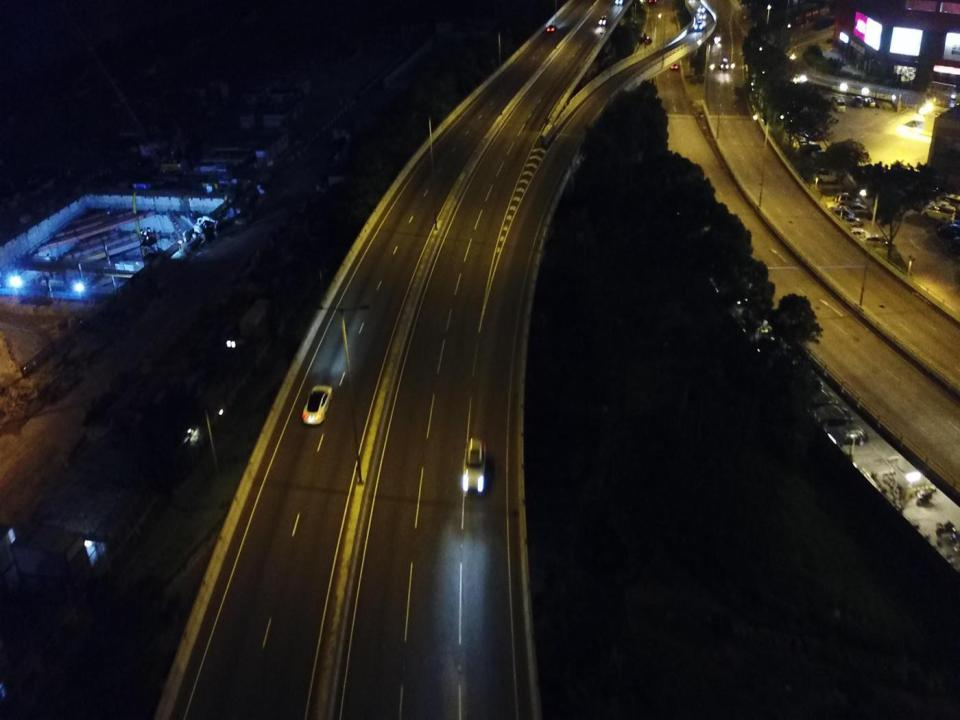car: (463, 439, 487, 494), (302, 384, 332, 423), (812, 404, 853, 426), (829, 426, 867, 446), (922, 202, 955, 222), (804, 390, 838, 407), (814, 168, 840, 183), (936, 194, 960, 210), (863, 234, 889, 248), (834, 193, 860, 206), (936, 222, 960, 236), (838, 216, 861, 226), (849, 228, 869, 238), (848, 205, 868, 214), (670, 58, 678, 70), (721, 58, 729, 70), (696, 4, 706, 12), (713, 33, 722, 41), (599, 15, 606, 25), (695, 22, 703, 30), (547, 25, 556, 32), (700, 14, 706, 20)
van: (829, 207, 854, 220), (831, 96, 846, 111), (852, 96, 864, 107), (865, 96, 875, 107)
